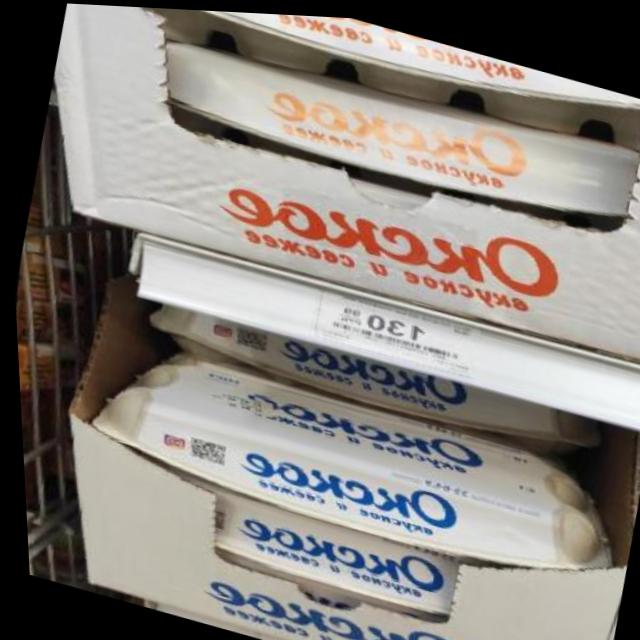Egg: (65, 327, 624, 593), (138, 285, 604, 471), (187, 482, 459, 632)
